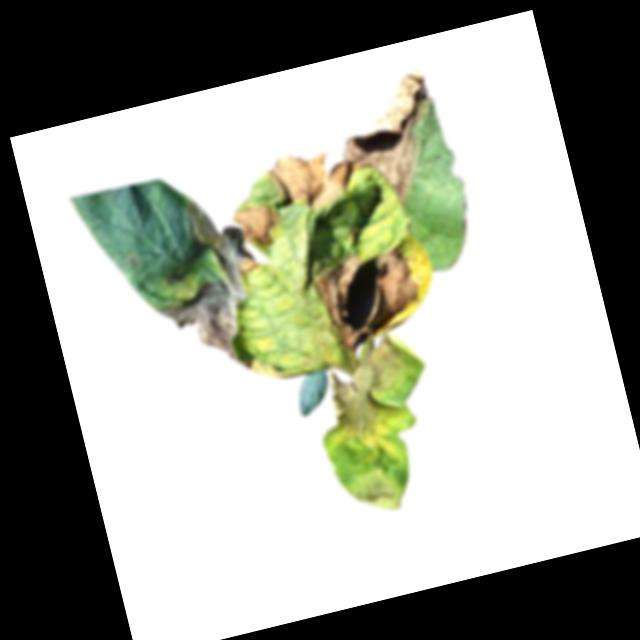Late_blight: (324, 66, 454, 216), (308, 238, 429, 355), (316, 329, 420, 452), (182, 190, 265, 307), (155, 278, 250, 377), (265, 137, 376, 218), (338, 458, 407, 523), (227, 197, 285, 253)
